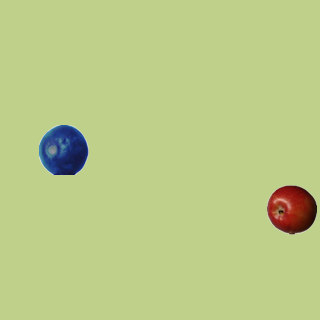Apple Braeburn: (266, 184, 316, 234)
Huckleberry: (38, 124, 88, 174)
